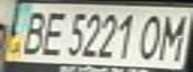1: (115, 9, 142, 61)
2: (100, 9, 124, 60), (81, 9, 103, 60)
5: (63, 8, 87, 59)
B: (15, 7, 51, 56)
E: (36, 7, 69, 57)
M: (151, 10, 193, 62)
O: (136, 10, 169, 61)
